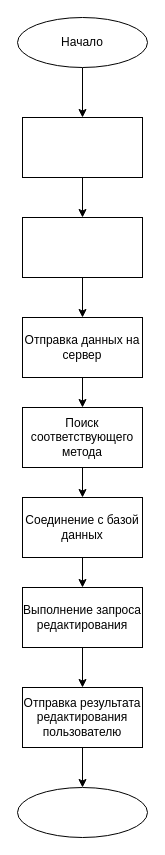
This 165x855 diagram has some shape labels left out. Each missing label, with the centre of its shape:
"Конец" belongs at point (82, 812).
"Отображение данных в диалоговом окне" belongs at point (82, 147).
"Редактирование данных" belongs at point (82, 247).
